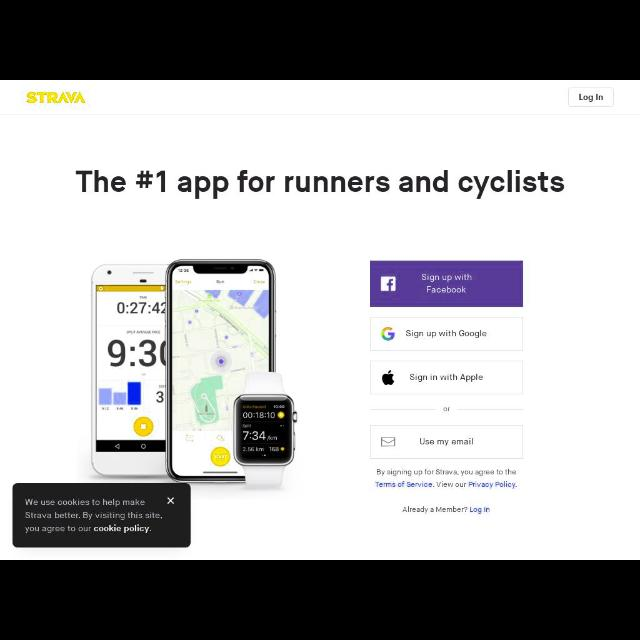button: (165, 496, 175, 506)
icon: (380, 437, 396, 448), (166, 497, 174, 505)
image: (86, 258, 302, 494), (26, 91, 86, 105), (379, 276, 396, 292), (382, 370, 394, 386), (382, 327, 394, 341)
panel: (12, 484, 190, 548)
text: (73, 168, 567, 202), (24, 498, 164, 536), (375, 468, 519, 490), (422, 273, 472, 295), (406, 328, 486, 340), (403, 506, 491, 514), (410, 373, 484, 382), (420, 437, 474, 448), (578, 94, 604, 102), (444, 406, 450, 412)
textbutton: (370, 260, 524, 308), (370, 316, 524, 352), (370, 360, 524, 396), (370, 424, 524, 460), (568, 88, 614, 109)
toolbar: (1, 82, 639, 115)
